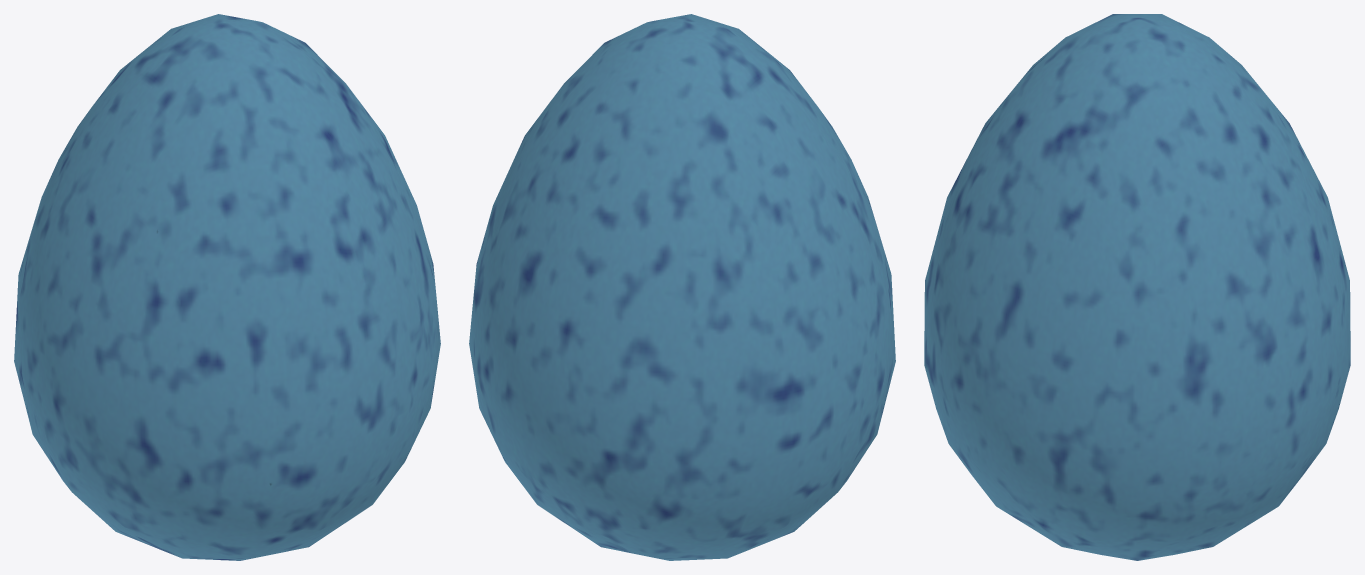
File: crcr.glb
The picture shows the model from 3 angles, left to right: view 1: azimuth 30°, elevation 25°; view 2: azimuth 150°, elevation 25°; view 3: azimuth 270°, elevation 25°; orthographic projection.
Visible parts, largest first — view 1: Icosphere.001; view 2: Icosphere.001; view 3: Icosphere.001.
Boxes of the visible parts, x1,y1,x2,y2 form: Icosphere.001: [14, 14, 440, 560]; Icosphere.001: [469, 14, 895, 560]; Icosphere.001: [924, 14, 1350, 560].
Size of the model in its own units: 2.96 by 4 by 2.96.
1 material, 1 textured.
